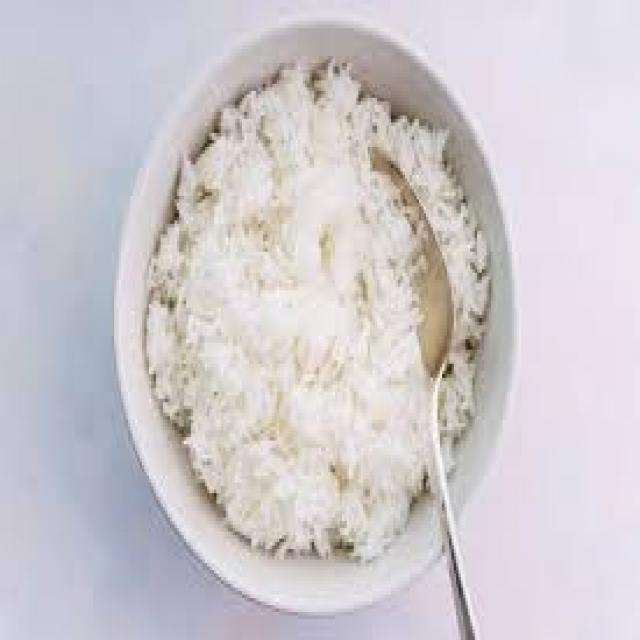White Rice: (139, 53, 502, 608)
